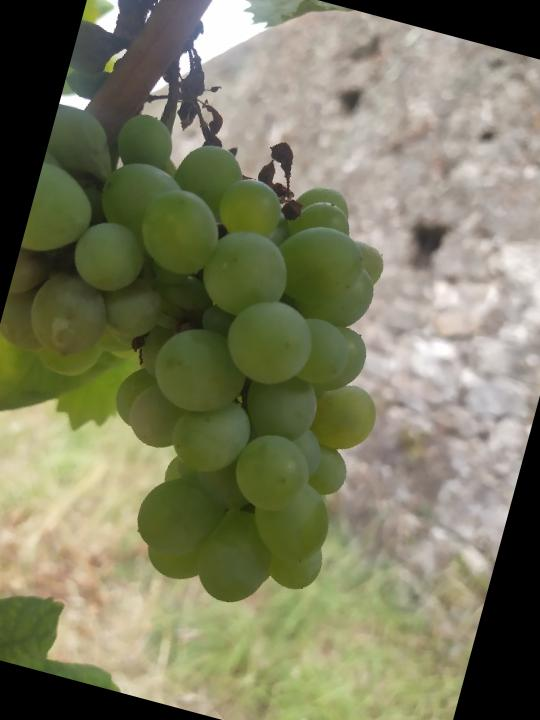grape: (0, 0, 478, 635)
